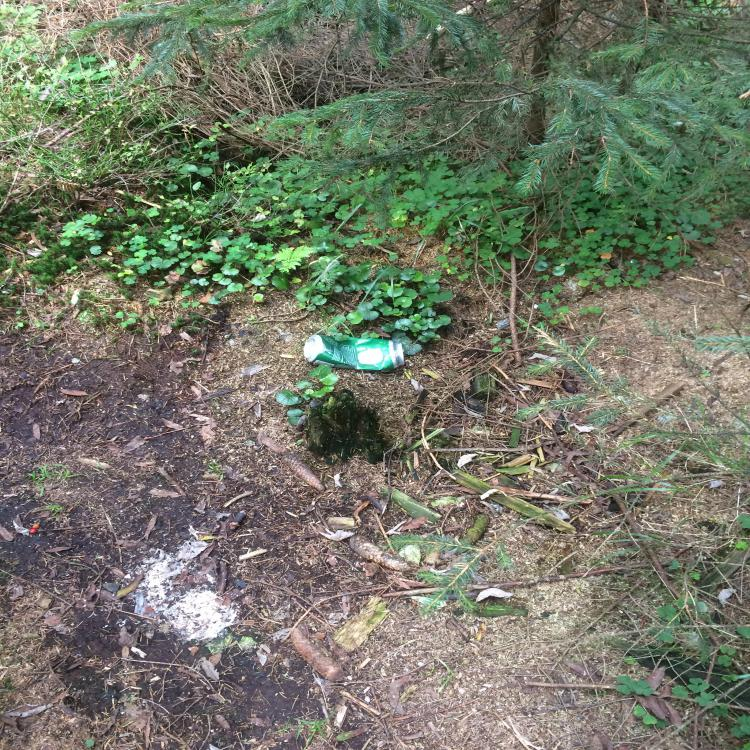Drink can: (304, 335, 404, 370)
